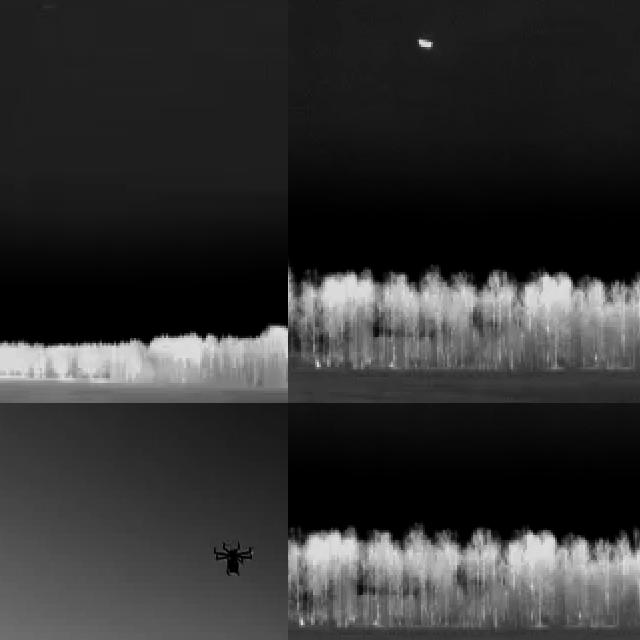0: (38, 0, 62, 25)
1: (407, 32, 443, 62)
drone: (212, 537, 254, 583)
